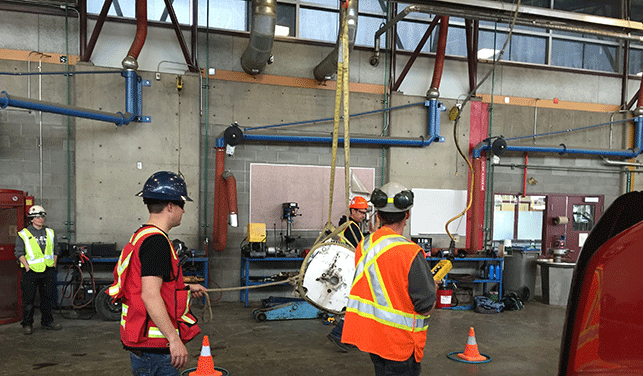crane-operator: (113, 174, 247, 343), (364, 186, 458, 348), (14, 200, 75, 311), (314, 186, 352, 315)
